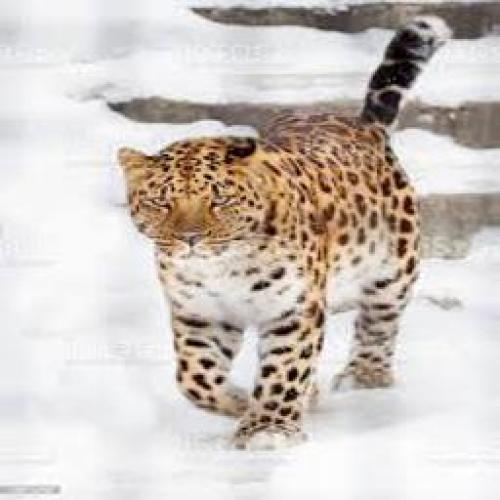amur_leopard-endangered: (118, 14, 446, 454)
